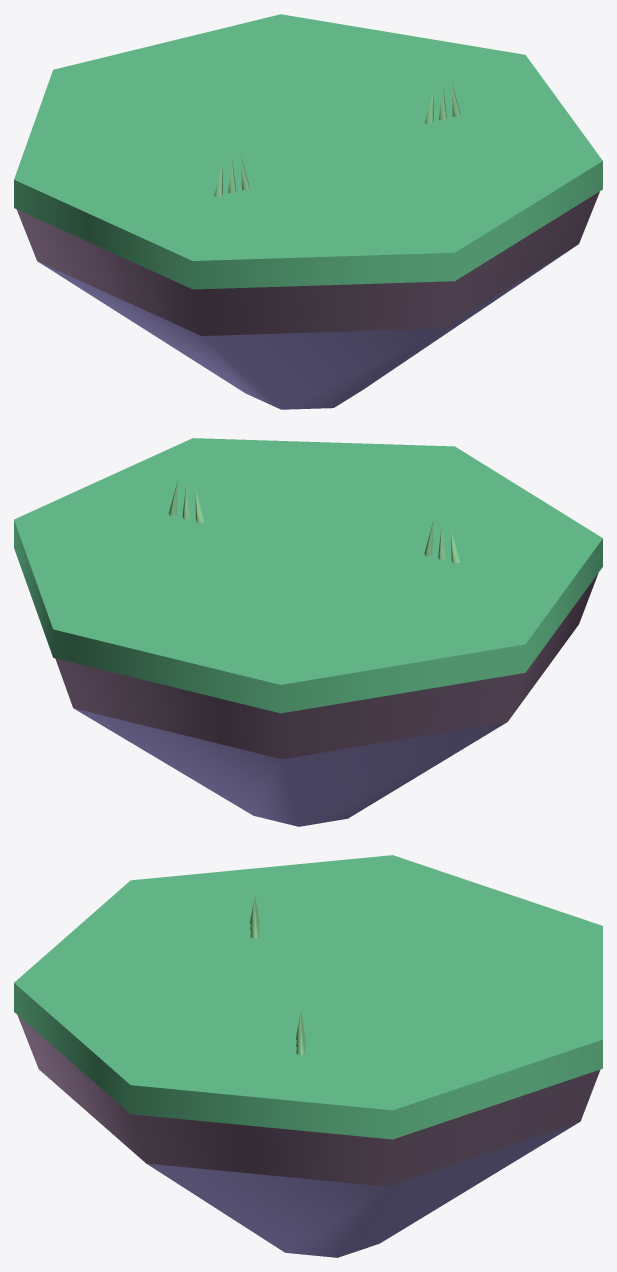
File: floating-island.glb
3 renders of one model, top to bottom at view 1: azimuth 30°, elevation 25°; view 2: azimuth 150°, elevation 25°; view 3: azimuth 270°, elevation 25°, orthographic. The views are drawn at different scales.
Parts seen in each view (by area): view 1: grass-cap, soil-band, faceted-rock; view 2: grass-cap, soil-band, faceted-rock; view 3: grass-cap, soil-band, faceted-rock.
Part boxes in pixels (x1,y1,x2,y2): grass-cap: [14, 14, 602, 289]; soil-band: [16, 191, 599, 335]; faceted-rock: [38, 245, 576, 409]; grass-cap: [14, 438, 602, 713]; soil-band: [55, 573, 598, 759]; faceted-rock: [74, 708, 506, 826]; grass-cap: [14, 855, 602, 1139]; soil-band: [17, 1015, 600, 1186]; faceted-rock: [146, 1122, 579, 1257].
Bounding box in the file's own units: 2.63 × 1.38 × 2.57.
